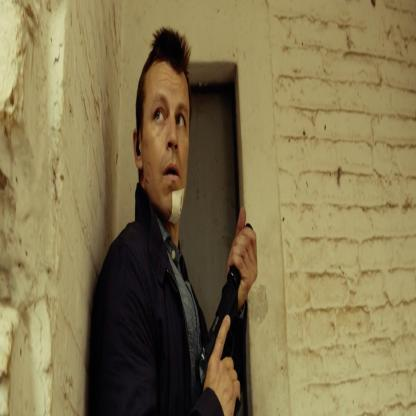gun: (195, 188, 266, 413)
